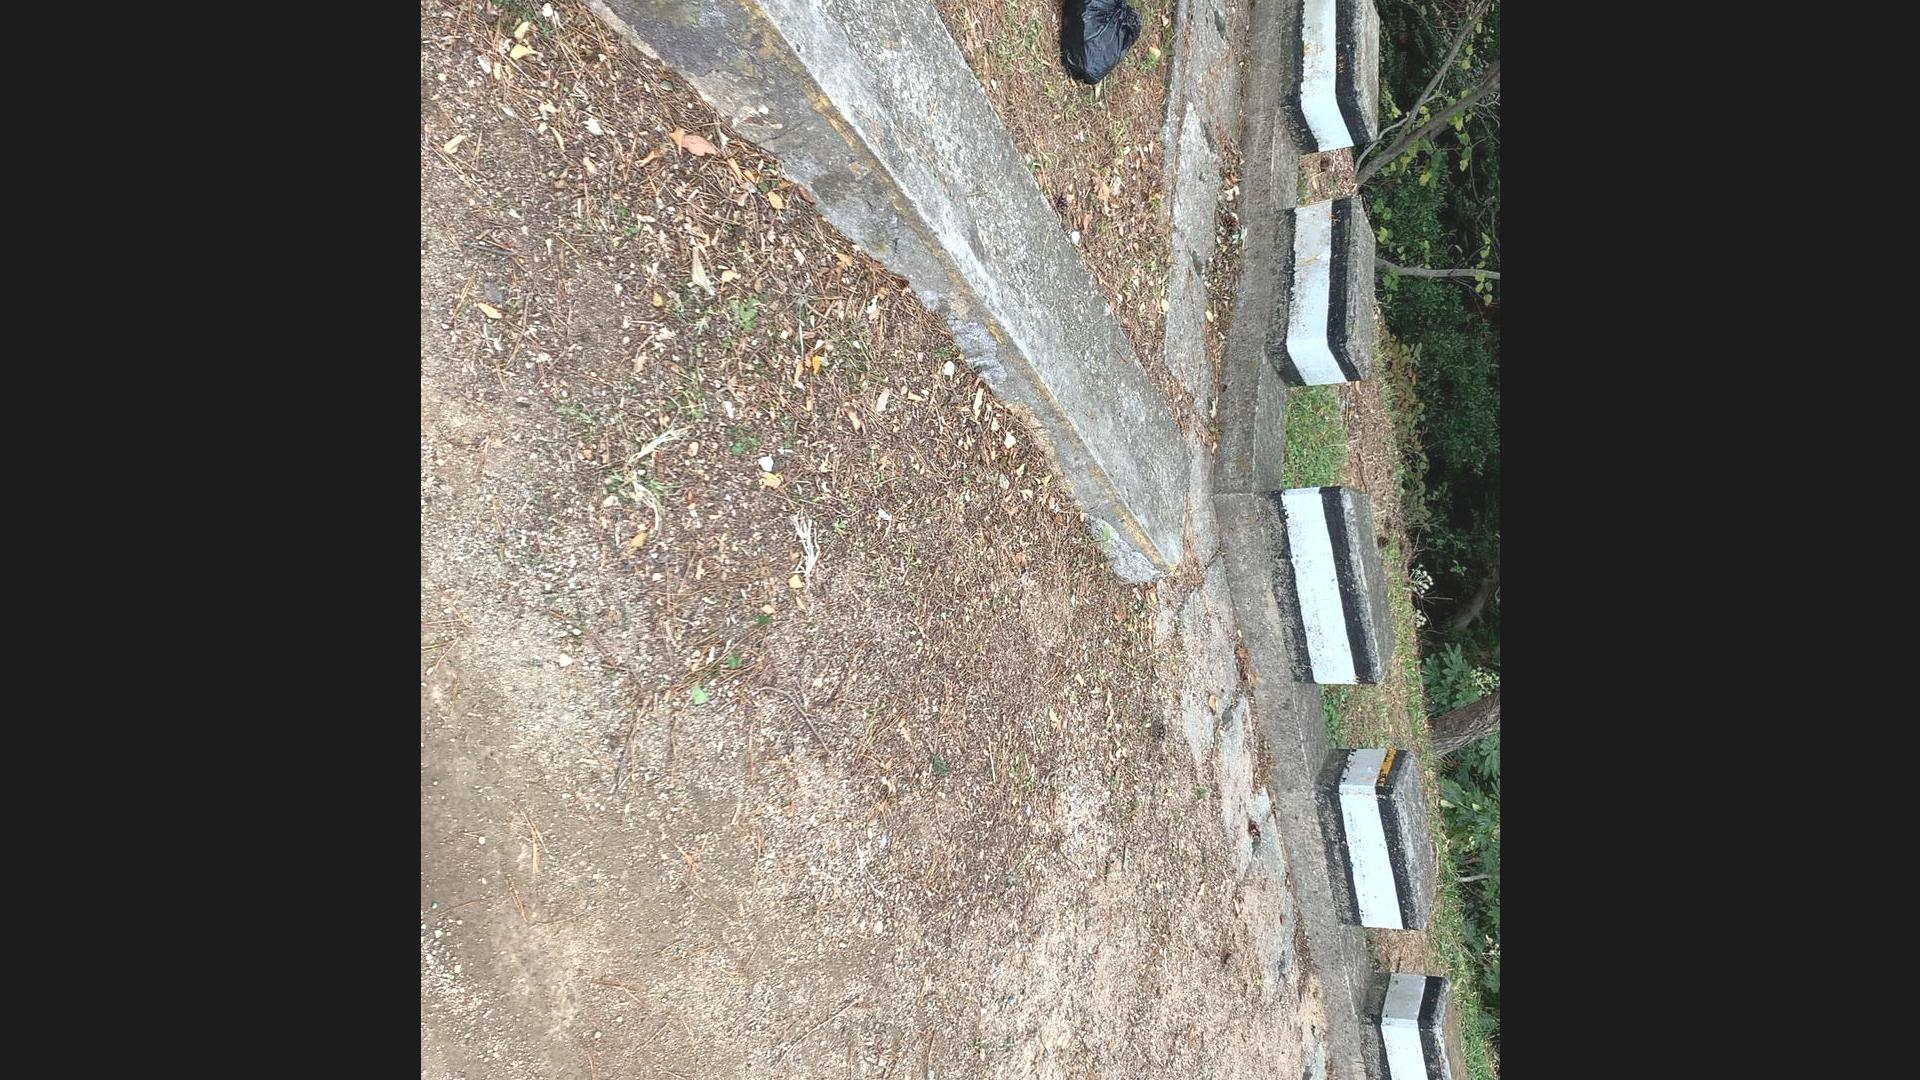black_bag: (1055, 0, 1151, 87)
